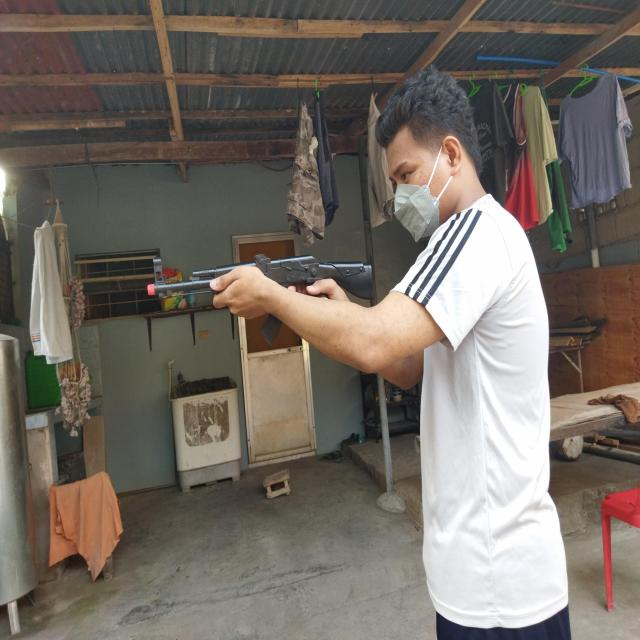rifle: (146, 253, 373, 342)
